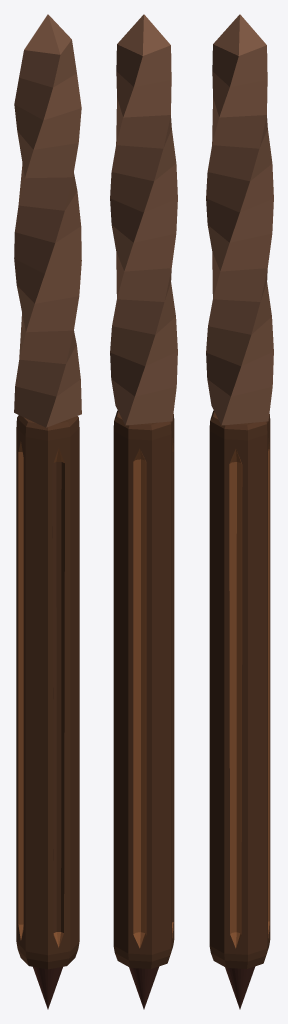
The model's file is Wand 552.glb.
3 views of the same model, side by side, from view 1: azimuth 90°, elevation 25°; view 2: azimuth 150°, elevation 25°; view 3: azimuth 330°, elevation 25° (orthographic).
Parts seen in each view (by area): view 1: GeneratedWand; view 2: GeneratedWand; view 3: GeneratedWand.
Boxes of the visible parts, <box> form: GeneratedWand: <box>14,14,81,1009</box>; GeneratedWand: <box>110,14,177,1009</box>; GeneratedWand: <box>206,14,273,1009</box>.
Bounding box in the file's own units: 0.0311 × 0.504 × 0.0311.
